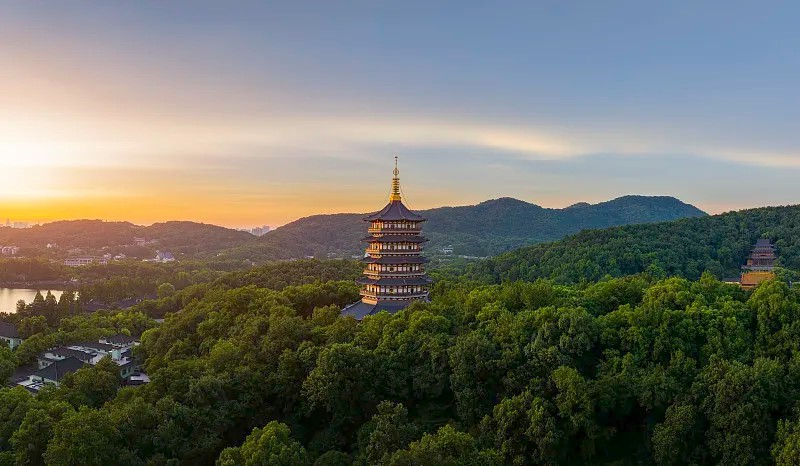Leifeng: (342, 153, 435, 320)
